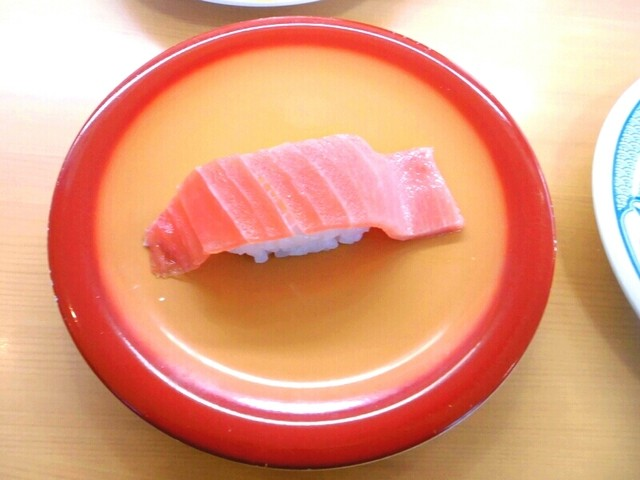medium_fatty_tuna: (151, 140, 467, 279)
